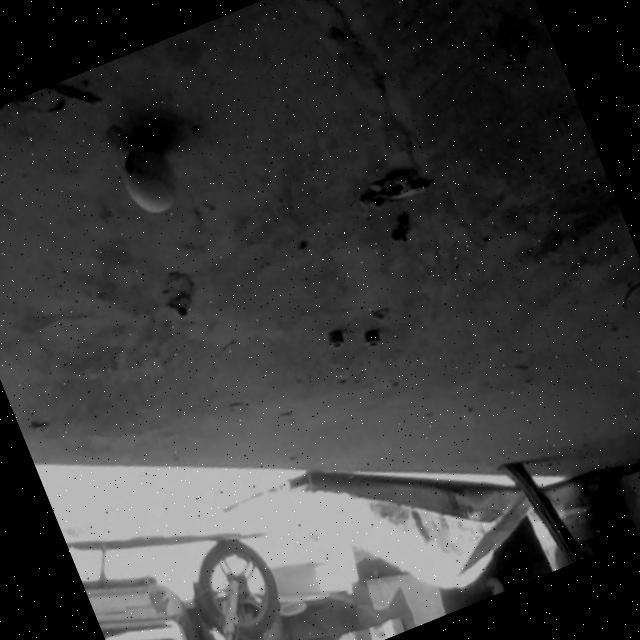ping-pong-ball: (116, 142, 180, 215)
